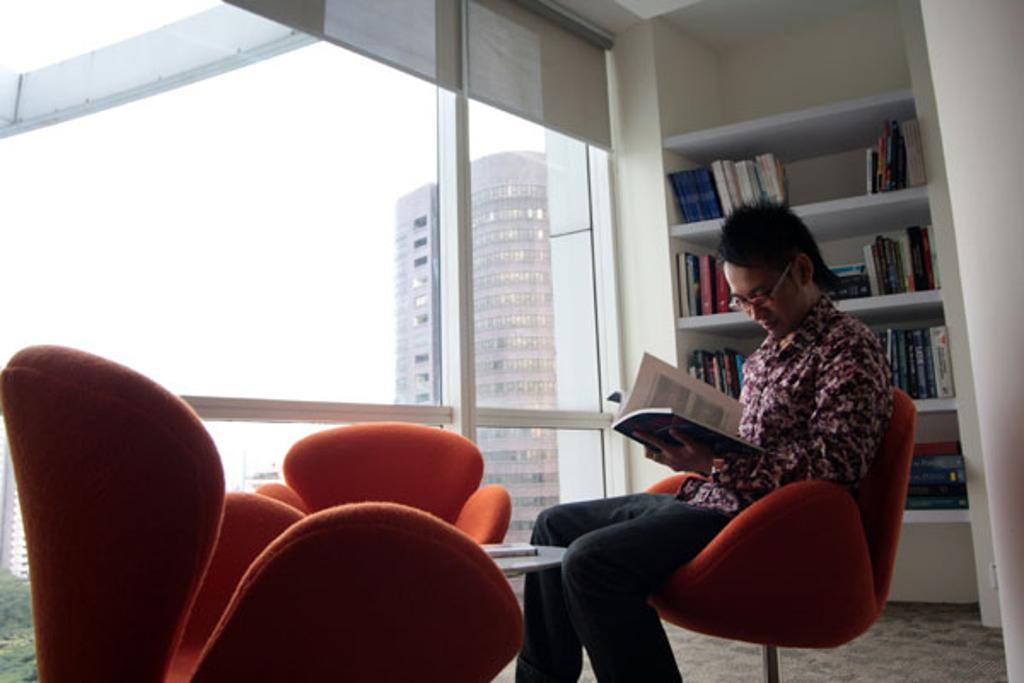face: (726, 264, 790, 342)
